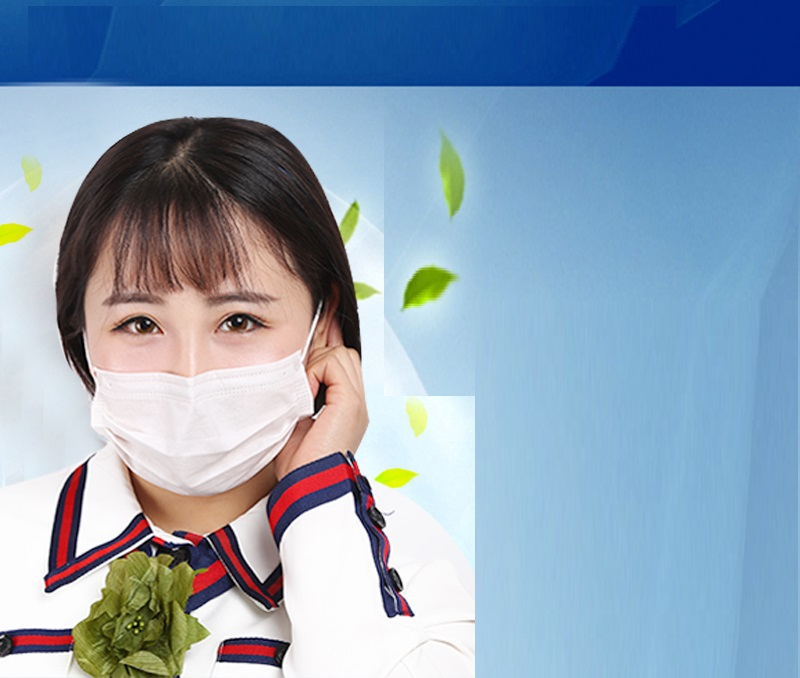face_mask: (82, 216, 308, 499)
